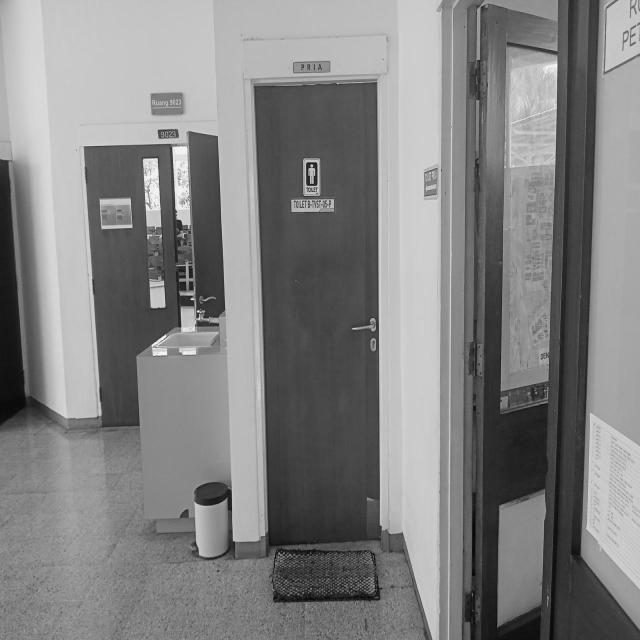door: (248, 76, 384, 554)
